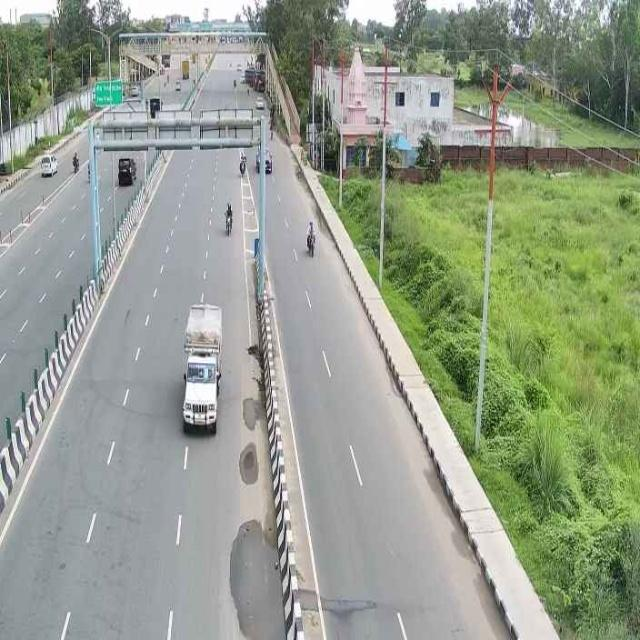car: (173, 296, 228, 436)
